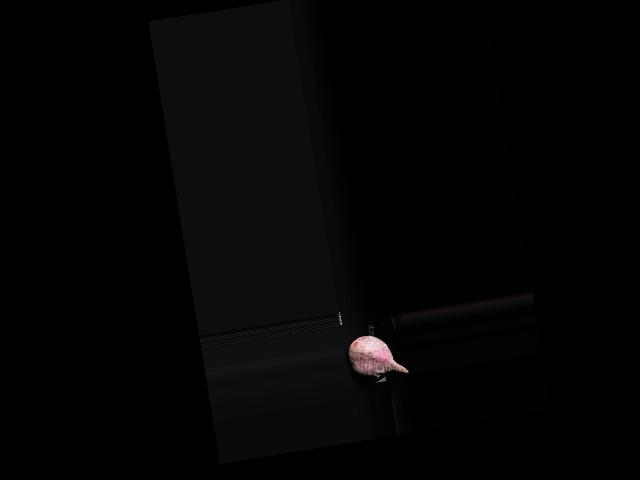beet: (346, 329, 408, 380)
